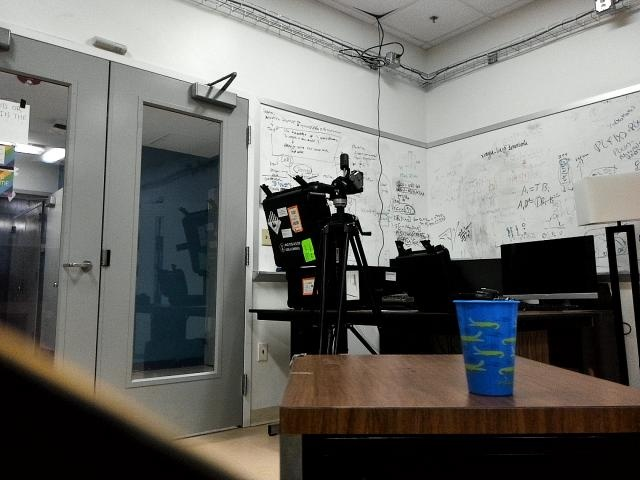water_cup: (446, 297, 523, 404)
